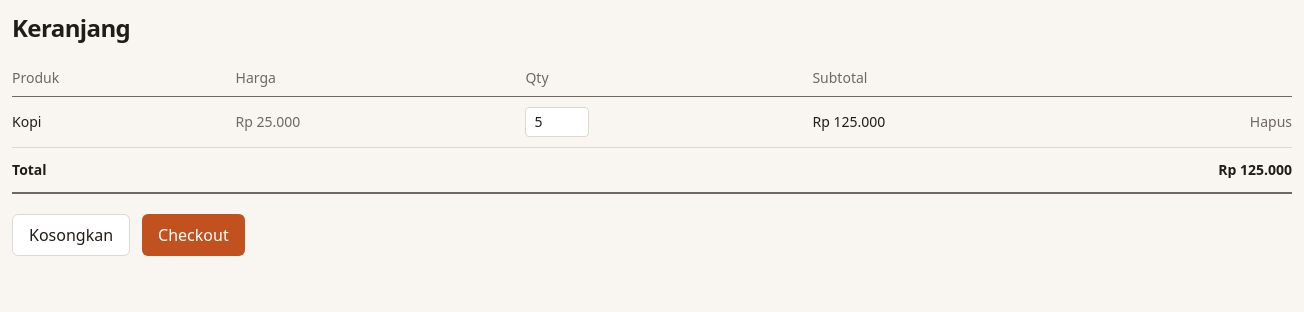
Test case: CartView › shows backend validation error and keeps cart on failure
This screenshot has width=1304, height=312.
What coordinates should you click on to do the following:
click the button with test id "checkout"
I would click on:
 (193, 235)
Its box is x1=142 y1=214 x2=245 y2=256.
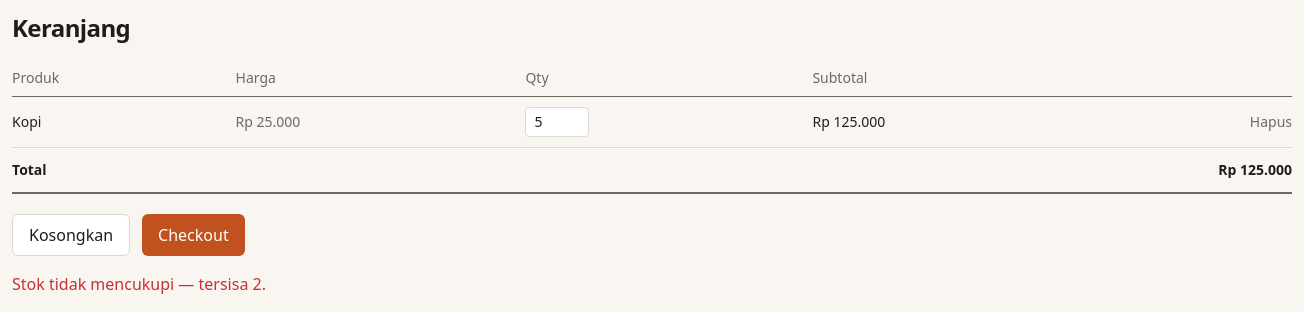
Expected: the text with test id "checkout-error" shows "Stok tidak mencukupi", x1=12 y1=273 x2=266 y2=295
